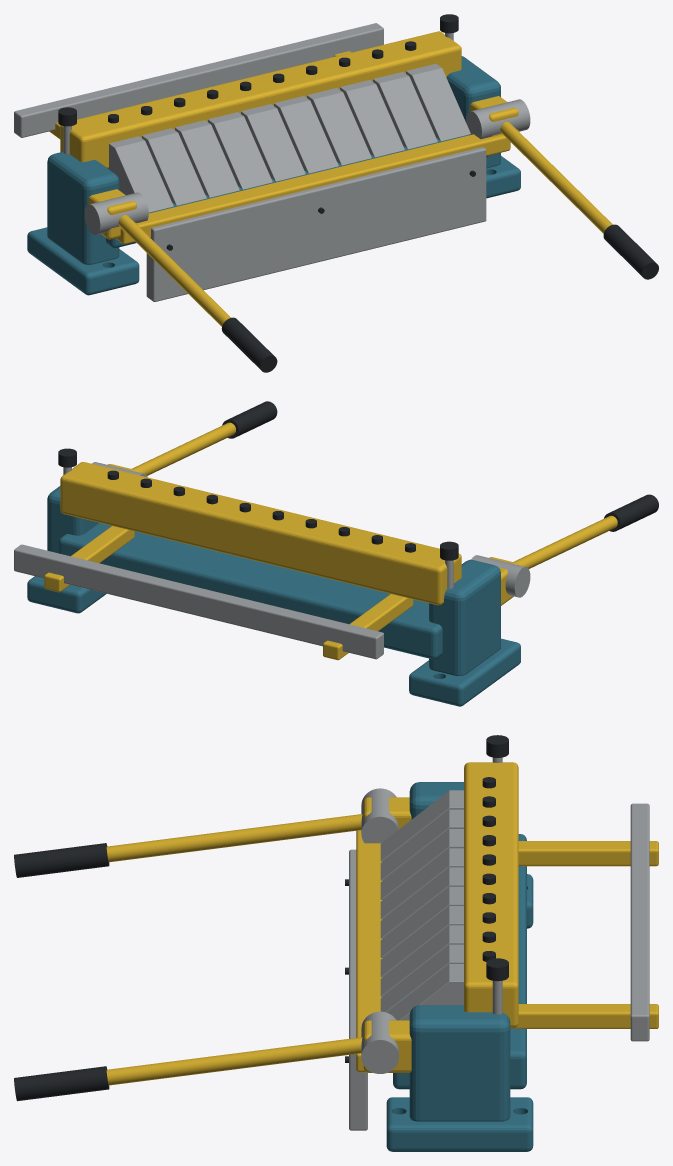
The model's file is full.glb.
3 views of the same model, one above another, from view 1: azimuth 30°, elevation 25°; view 2: azimuth 150°, elevation 25°; view 3: azimuth 270°, elevation 25° (orthographic). The views are drawn at different scales.
Parts seen in each view (by area): view 1: Long bending apron, Upper clamp beam, Rear stock fence, Apron upper edge, End bearing casting -0.63, Mounting foot -0.63, Segmented clamp finger 0, Segmented clamp finger 4, Segmented clamp finger 8, Segmented clamp finger 2, Segmented clamp finger 9, Segmented clamp finger 6 (+15 smaller); view 2: Upper clamp beam, Fixed long bed, Rear stock fence, End bearing casting -0.63, Mounting foot -0.63, Mounting foot 0.63, Rear support arm -0.46, Rear support arm 0.46, Long twin lever 0.63, Long twin lever -0.63, End bearing casting 0.63, Long grip 0.63 (+2 smaller); view 3: Upper clamp beam, End bearing casting 0.63, Mounting foot 0.63, Rear stock fence, Apron upper edge, Long twin lever 0.63, Long twin lever -0.63, Rear support arm -0.46, Rear support arm 0.46, Long bending apron, Fixed long bed, Long grip -0.63 (+16 smaller).
Boxes of the visible parts, x1=… form: Long bending apron: x1=146, y1=147, x2=486, y2=301; Upper clamp beam: x1=60, y1=31, x2=461, y2=168; Rear stock fence: x1=14, y1=23, x2=383, y2=137; Apron upper edge: x1=116, y1=134, x2=510, y2=244; End bearing casting -0.63: x1=47, y1=152, x2=119, y2=264; Mounting foot -0.63: x1=27, y1=227, x2=139, y2=295; Segmented clamp finger 0: x1=108, y1=136, x2=173, y2=212; Segmented clamp finger 4: x1=241, y1=104, x2=305, y2=181; Segmented clamp finger 8: x1=373, y1=72, x2=437, y2=149; Segmented clamp finger 2: x1=175, y1=120, x2=239, y2=197; Segmented clamp finger 9: x1=406, y1=63, x2=470, y2=141; Segmented clamp finger 6: x1=307, y1=88, x2=371, y2=165; Upper clamp beam: x1=60, y1=462, x2=461, y2=605; Fixed long bed: x1=59, y1=523, x2=442, y2=659; Rear stock fence: x1=14, y1=544, x2=383, y2=659; End bearing casting -0.63: x1=429, y1=559, x2=500, y2=675; Mounting foot -0.63: x1=409, y1=638, x2=520, y2=706; Mounting foot 0.63: x1=27, y1=576, x2=106, y2=613; Rear support arm -0.46: x1=323, y1=594, x2=413, y2=660; Rear support arm 0.46: x1=44, y1=526, x2=134, y2=592; Long twin lever 0.63: x1=132, y1=422, x2=235, y2=475; Long twin lever -0.63: x1=513, y1=515, x2=617, y2=568; End bearing casting 0.63: x1=47, y1=486, x2=99, y2=553; Long grip 0.63: x1=222, y1=401, x2=277, y2=438; Upper clamp beam: x1=464, y1=762, x2=518, y2=1027; End bearing casting 0.63: x1=409, y1=1005, x2=510, y2=1121; Mounting foot 0.63: x1=386, y1=1097, x2=533, y2=1151; Rear stock fence: x1=630, y1=803, x2=649, y2=1041; Apron upper edge: x1=356, y1=830, x2=382, y2=1072; Long twin lever 0.63: x1=106, y1=1037, x2=362, y2=1085; Long twin lever -0.63: x1=106, y1=814, x2=362, y2=862; Rear support arm -0.46: x1=518, y1=841, x2=658, y2=866; Rear support arm 0.46: x1=510, y1=1004, x2=658, y2=1028; Long bending apron: x1=349, y1=849, x2=367, y2=1130; Fixed long bed: x1=393, y1=834, x2=526, y2=1089; Long grip -0.63: x1=14, y1=843, x2=109, y2=877.
Bounding box in the file's own units: 1.44 × 0.48 × 1.54.
